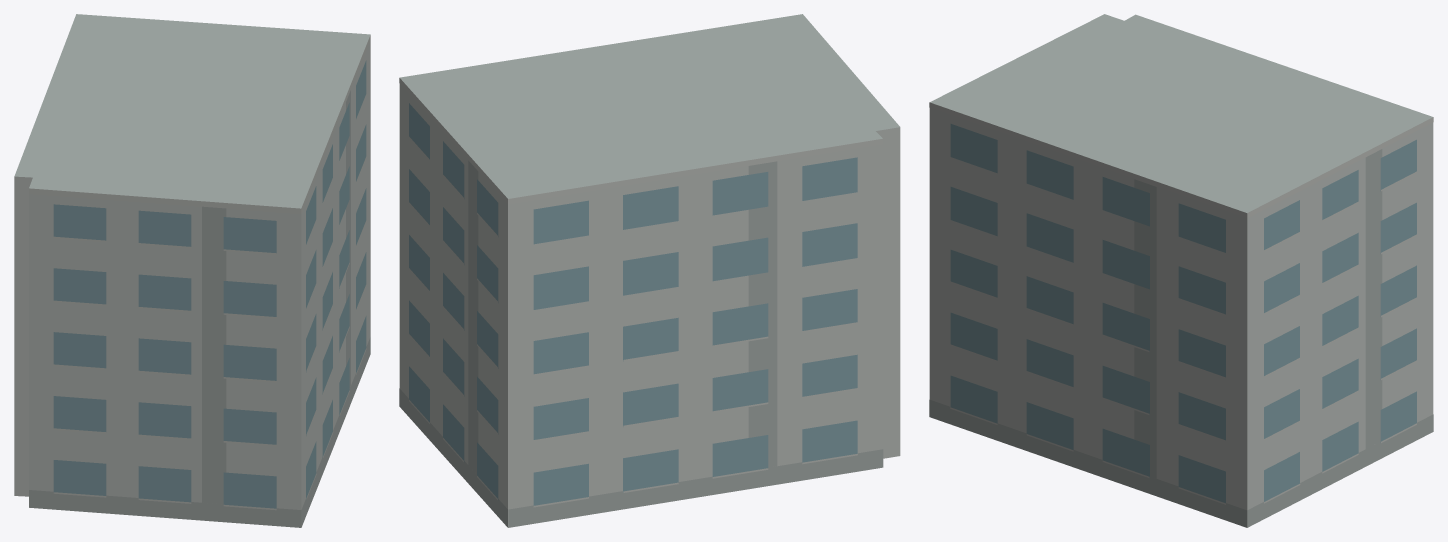
Rendered from survey-upis-32622527.glb.
The picture shows the model from 3 angles, left to right: view 1: azimuth 30°, elevation 25°; view 2: azimuth 150°, elevation 25°; view 3: azimuth 270°, elevation 25°; orthographic projection. The views are drawn at different scales.
Parts seen in each view (by area): view 1: survey-upis-32622527.tmp; view 2: survey-upis-32622527.tmp; view 3: survey-upis-32622527.tmp.
Part boxes in pixels (x1,y1,x2,y2): survey-upis-32622527.tmp: (14, 14, 370, 527); survey-upis-32622527.tmp: (399, 14, 900, 527); survey-upis-32622527.tmp: (929, 14, 1433, 527).
Size of the model in its own units: 19.28 by 14.2 by 20.61.
